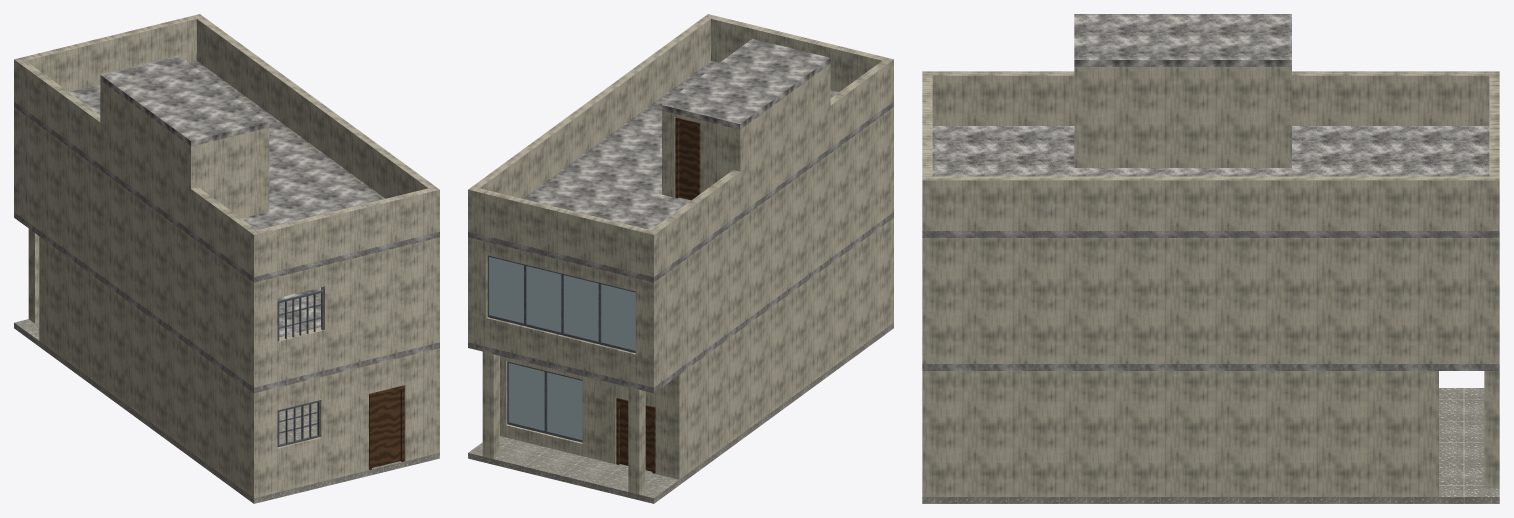
The model's file is neighbor_house_aged.fbx.
3 views of the same model, side by side, from view 1: azimuth 30°, elevation 25°; view 2: azimuth 150°, elevation 25°; view 3: azimuth 270°, elevation 25° (orthographic). The views are drawn at different scales.
Visible parts, largest first — view 1: neighbor_house_aged; view 2: neighbor_house_aged; view 3: neighbor_house_aged.
Part boxes in pixels (bbox=[...]): neighbor_house_aged: bbox=[14, 14, 439, 503]; neighbor_house_aged: bbox=[468, 14, 893, 503]; neighbor_house_aged: bbox=[922, 14, 1499, 503].
Bounding box in the file's own units: 510 × 830 × 1140.
